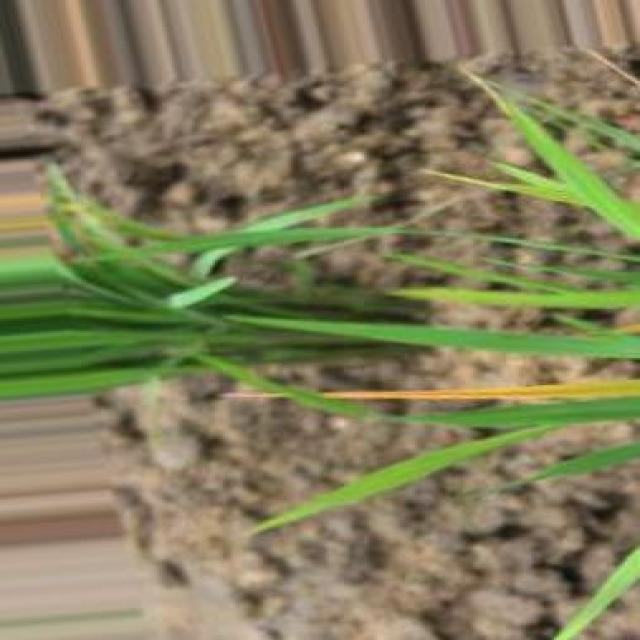Rice Tungro: (324, 381, 640, 401)
